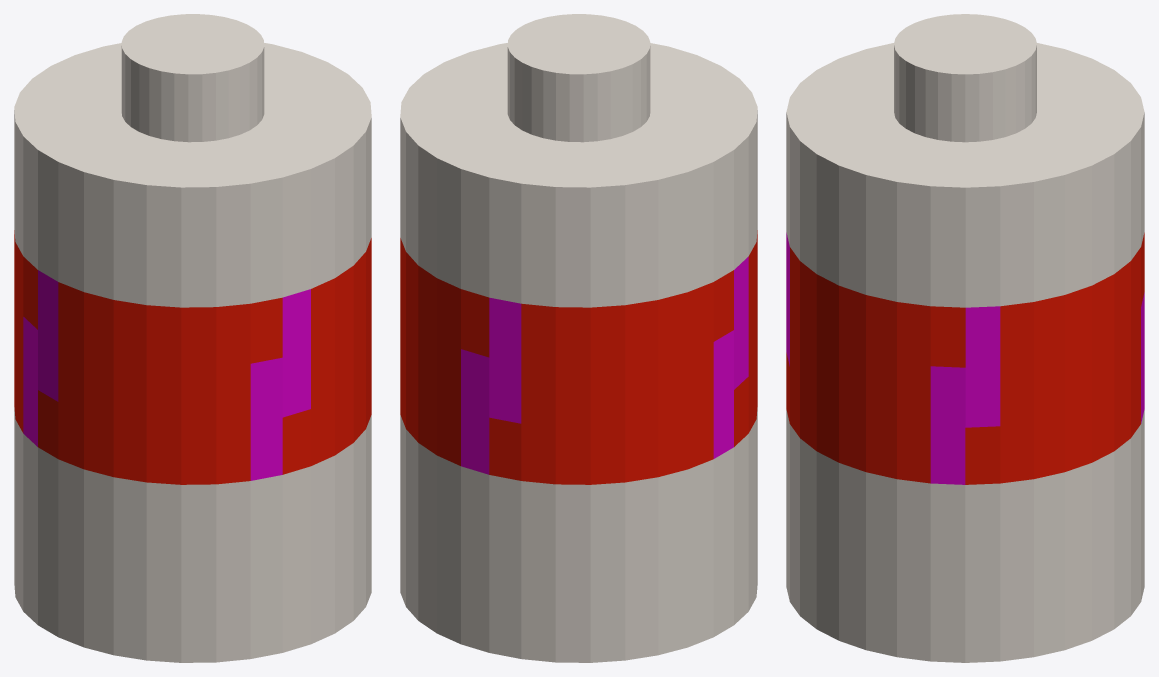
Rendered from UltraUntitled.fbx.
3 views of the same model, side by side, from view 1: azimuth 30°, elevation 25°; view 2: azimuth 150°, elevation 25°; view 3: azimuth 270°, elevation 25° (orthographic).
Parts seen in each view (by area): view 1: Cylinder, Cylinder.001; view 2: Cylinder, Cylinder.001; view 3: Cylinder, Cylinder.001.
Part boxes in pixels (x1=…): Cylinder: x1=14, y1=43, x2=371, y2=662; Cylinder.001: x1=121, y1=14, x2=264, y2=142; Cylinder: x1=400, y1=43, x2=757, y2=662; Cylinder.001: x1=507, y1=14, x2=650, y2=142; Cylinder: x1=786, y1=43, x2=1144, y2=662; Cylinder.001: x1=894, y1=14, x2=1036, y2=142.
Size of the model in its own units: 200 by 335 by 200.
